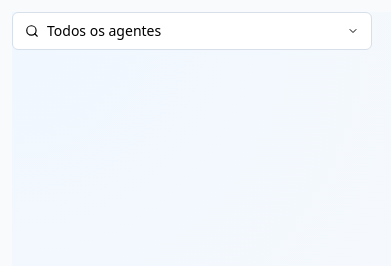
it: AgentFilterBar › opens the list on trigger click and shows all agents + 'Todos'
Click the button "Todos os agentes": (104, 30) [12,12,372,50]
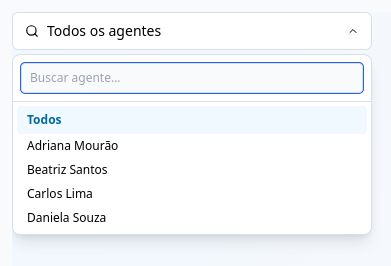
Expected: the field with placeholder "Buscar agente..." is shown, [21,63,363,93]
Expected: the button "Todos" is shown, [17,106,367,134]
Expected: the button "Adriana Mourão" is shown, [17,134,367,158]
